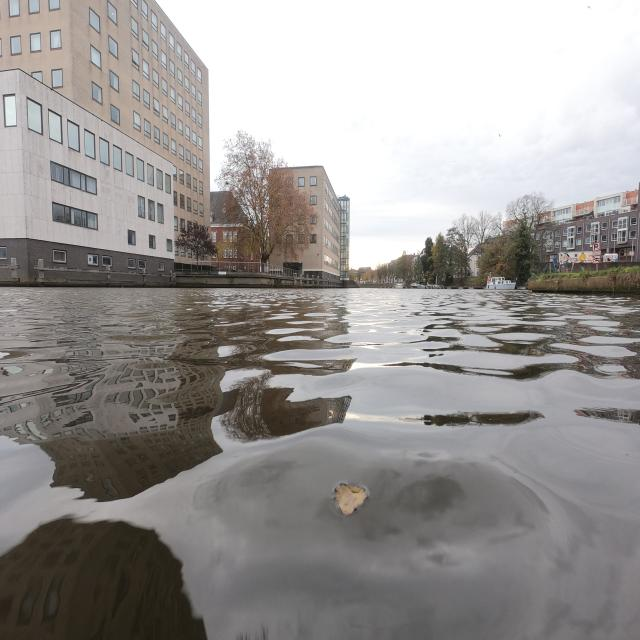boat: (486, 274, 516, 289)
sky: (161, 0, 640, 268)
wall: (528, 268, 640, 293), (172, 271, 302, 288)
water: (0, 288, 640, 640)
